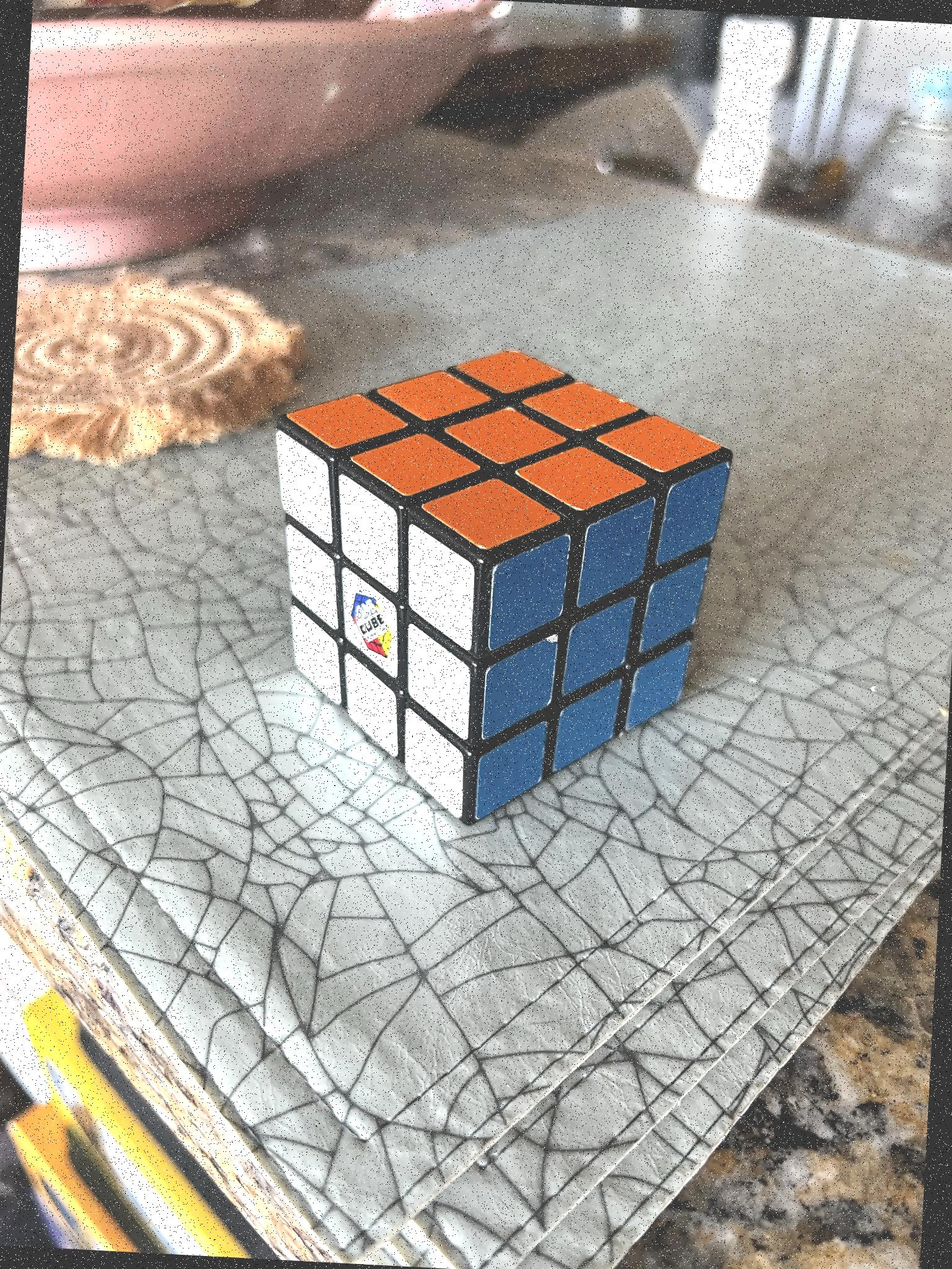rubiks_cube: (277, 350, 728, 818)
